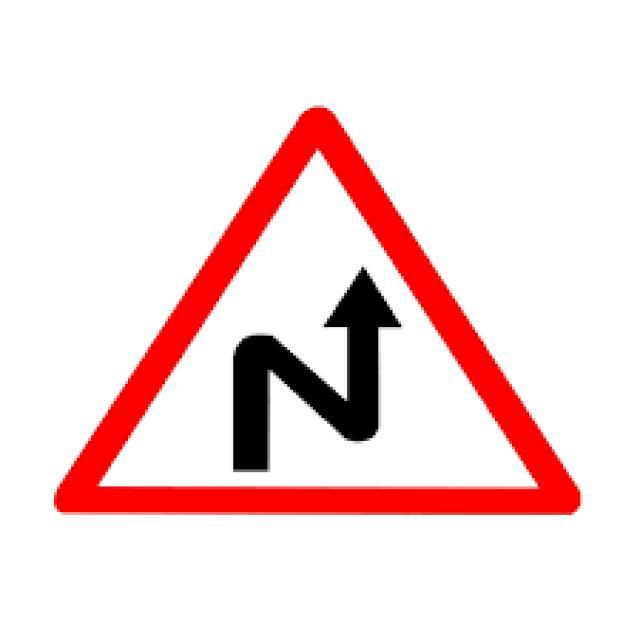right reverse bend: (54, 99, 584, 515)
